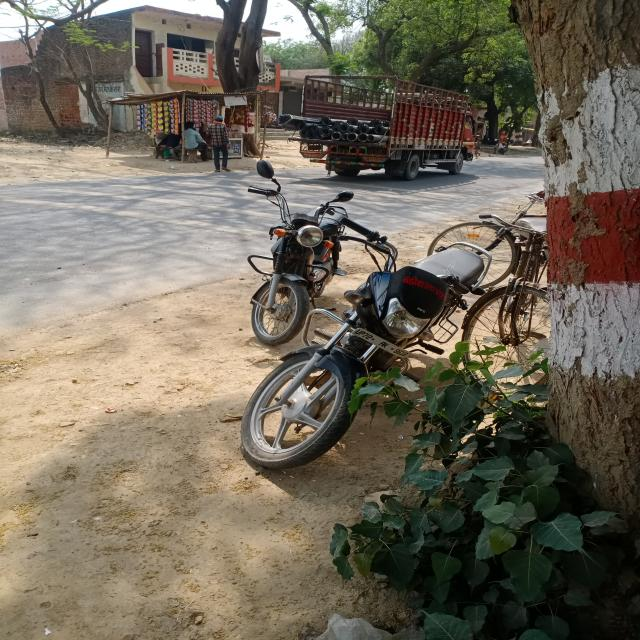Bike: (350, 223, 470, 469), (244, 176, 331, 342)
truck: (290, 63, 479, 169)
